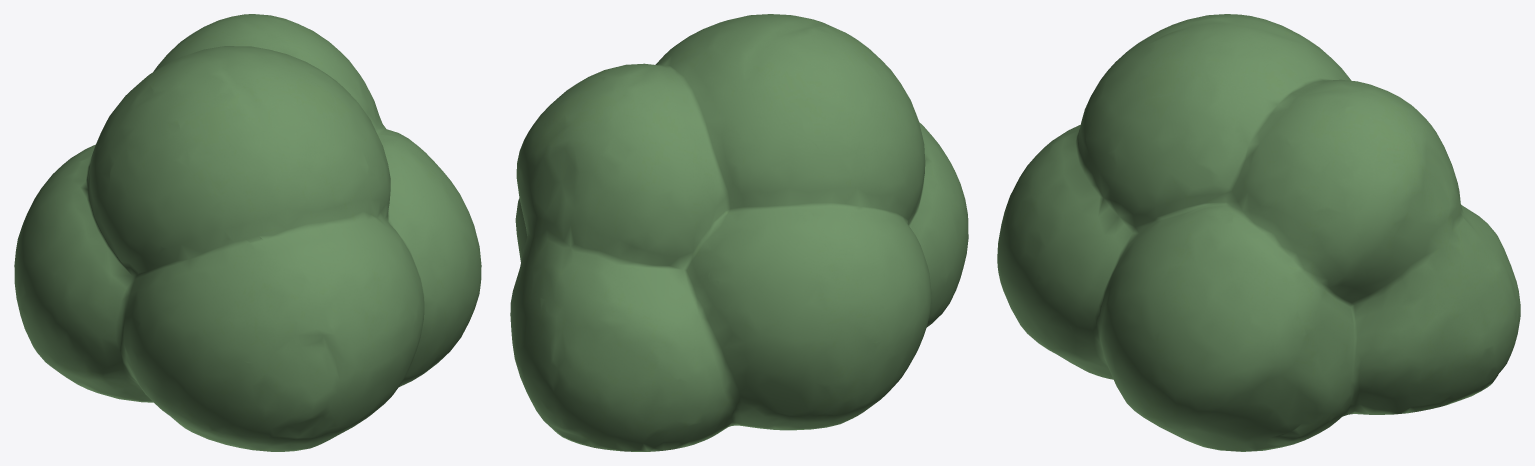
File: bush.glb
3 views of the same model, side by side, from view 1: azimuth 30°, elevation 25°; view 2: azimuth 150°, elevation 25°; view 3: azimuth 270°, elevation 25° (orthographic). The views are drawn at different scales.
Visible parts, largest first — view 1: tripo_node_b026ef07-4730-4404-bc25-07529a81519a; view 2: tripo_node_b026ef07-4730-4404-bc25-07529a81519a; view 3: tripo_node_b026ef07-4730-4404-bc25-07529a81519a.
Boxes of the visible parts, <box> form: tripo_node_b026ef07-4730-4404-bc25-07529a81519a: <box>14,14,481,451</box>; tripo_node_b026ef07-4730-4404-bc25-07529a81519a: <box>510,14,968,451</box>; tripo_node_b026ef07-4730-4404-bc25-07529a81519a: <box>997,14,1520,451</box>.
Size of the model in its own units: 0.8884 by 0.724 by 1.
Materials: 1 (1 with a texture image).
